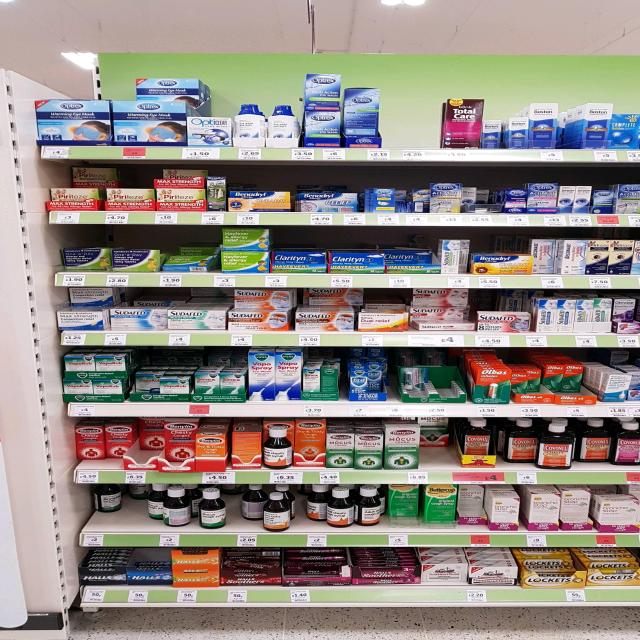empty: (383, 87, 443, 150), (120, 169, 154, 188)
